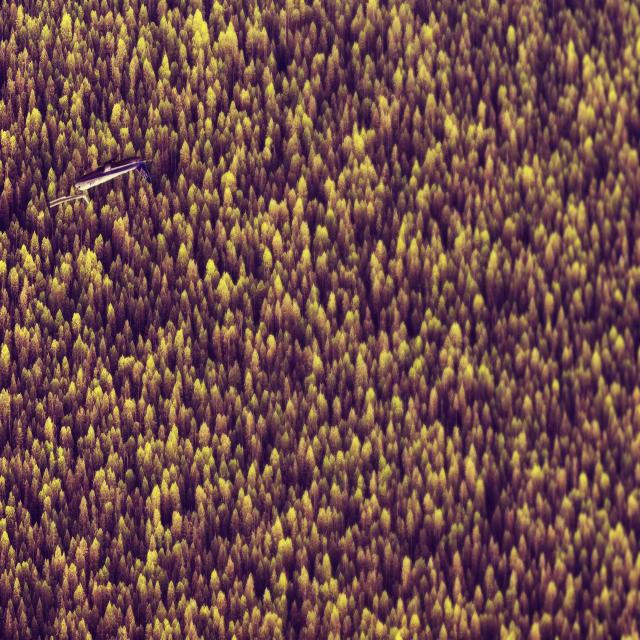airplane: (47, 155, 151, 209)
